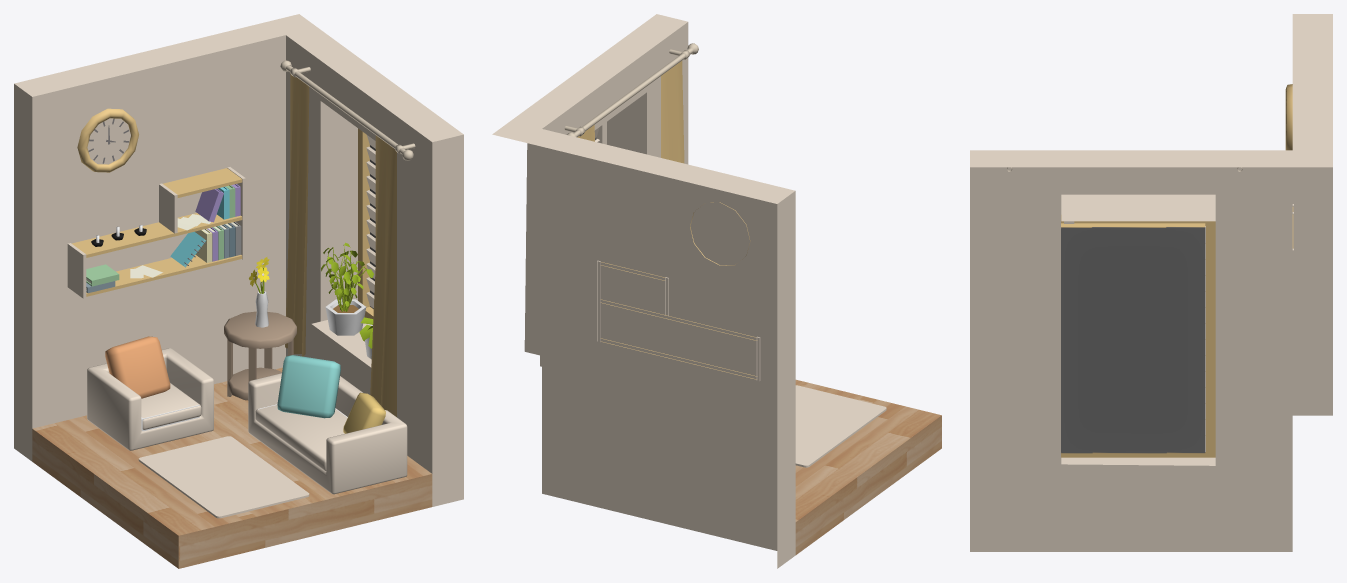
The model's file is kikiroom02.glb.
3 views of the same model, side by side, from view 1: azimuth 30°, elevation 25°; view 2: azimuth 150°, elevation 25°; view 3: azimuth 270°, elevation 25° (orthographic). The views are drawn at different scales.
Visible parts, largest first — view 1: floor.001; view 2: floor.001; view 3: floor.001.
Boxes of the visible parts, left/top/right/bottom form: floor.001: left=14, top=14, right=463, bottom=568; floor.001: left=492, top=14, right=941, bottom=568; floor.001: left=970, top=14, right=1332, bottom=551.
Size of the model in its own units: 3.09 by 3.52 by 2.88.
Materials: 4 (1 with a texture image).
